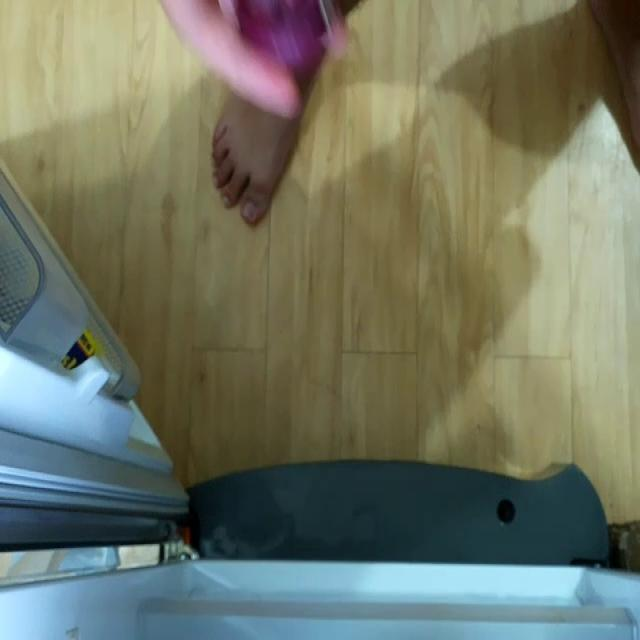onion: (232, 0, 348, 68)
